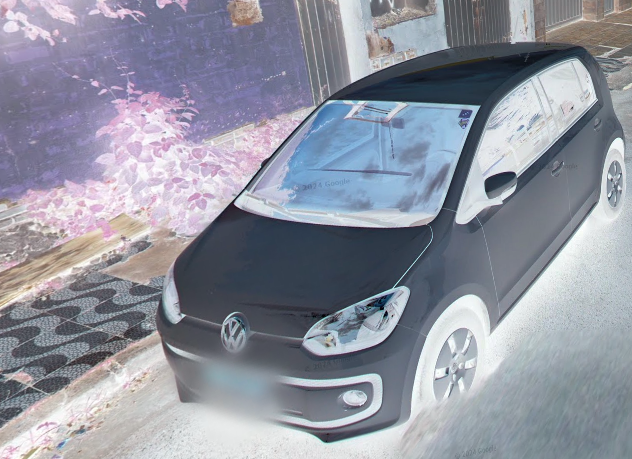car: (155, 43, 626, 439)
